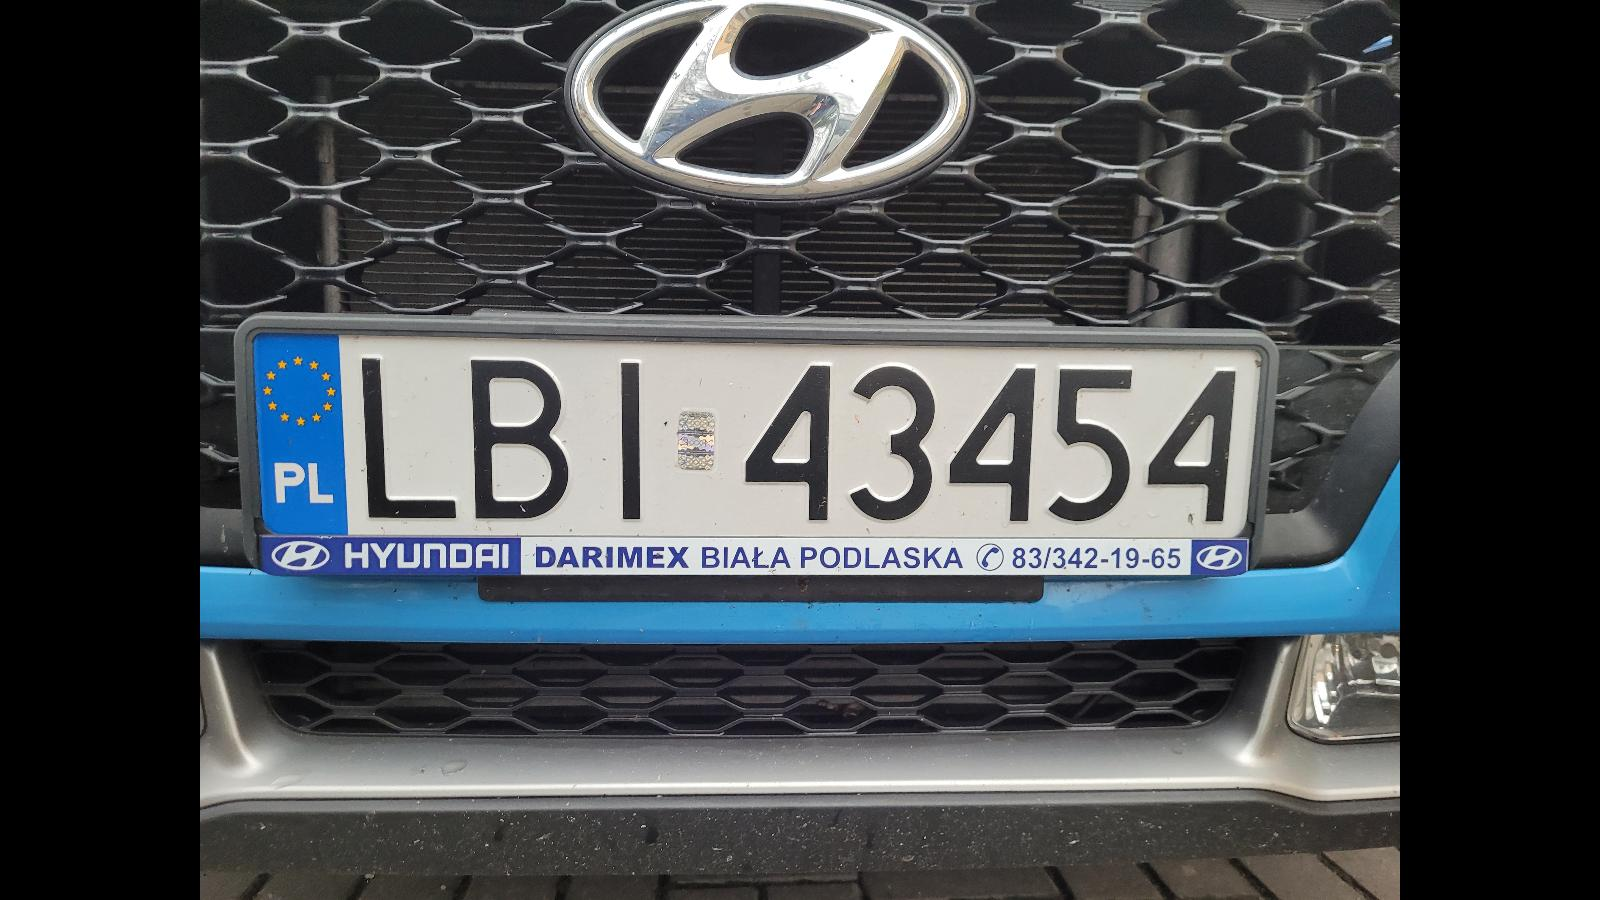plates: (235, 312, 1280, 576)
